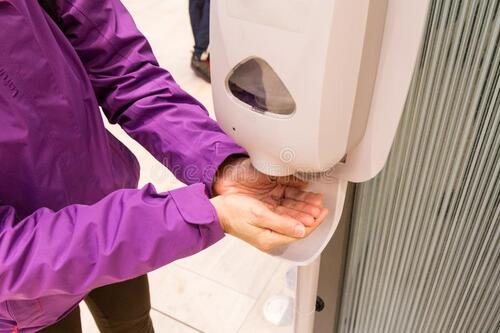sanitizer: (204, 2, 390, 186)
